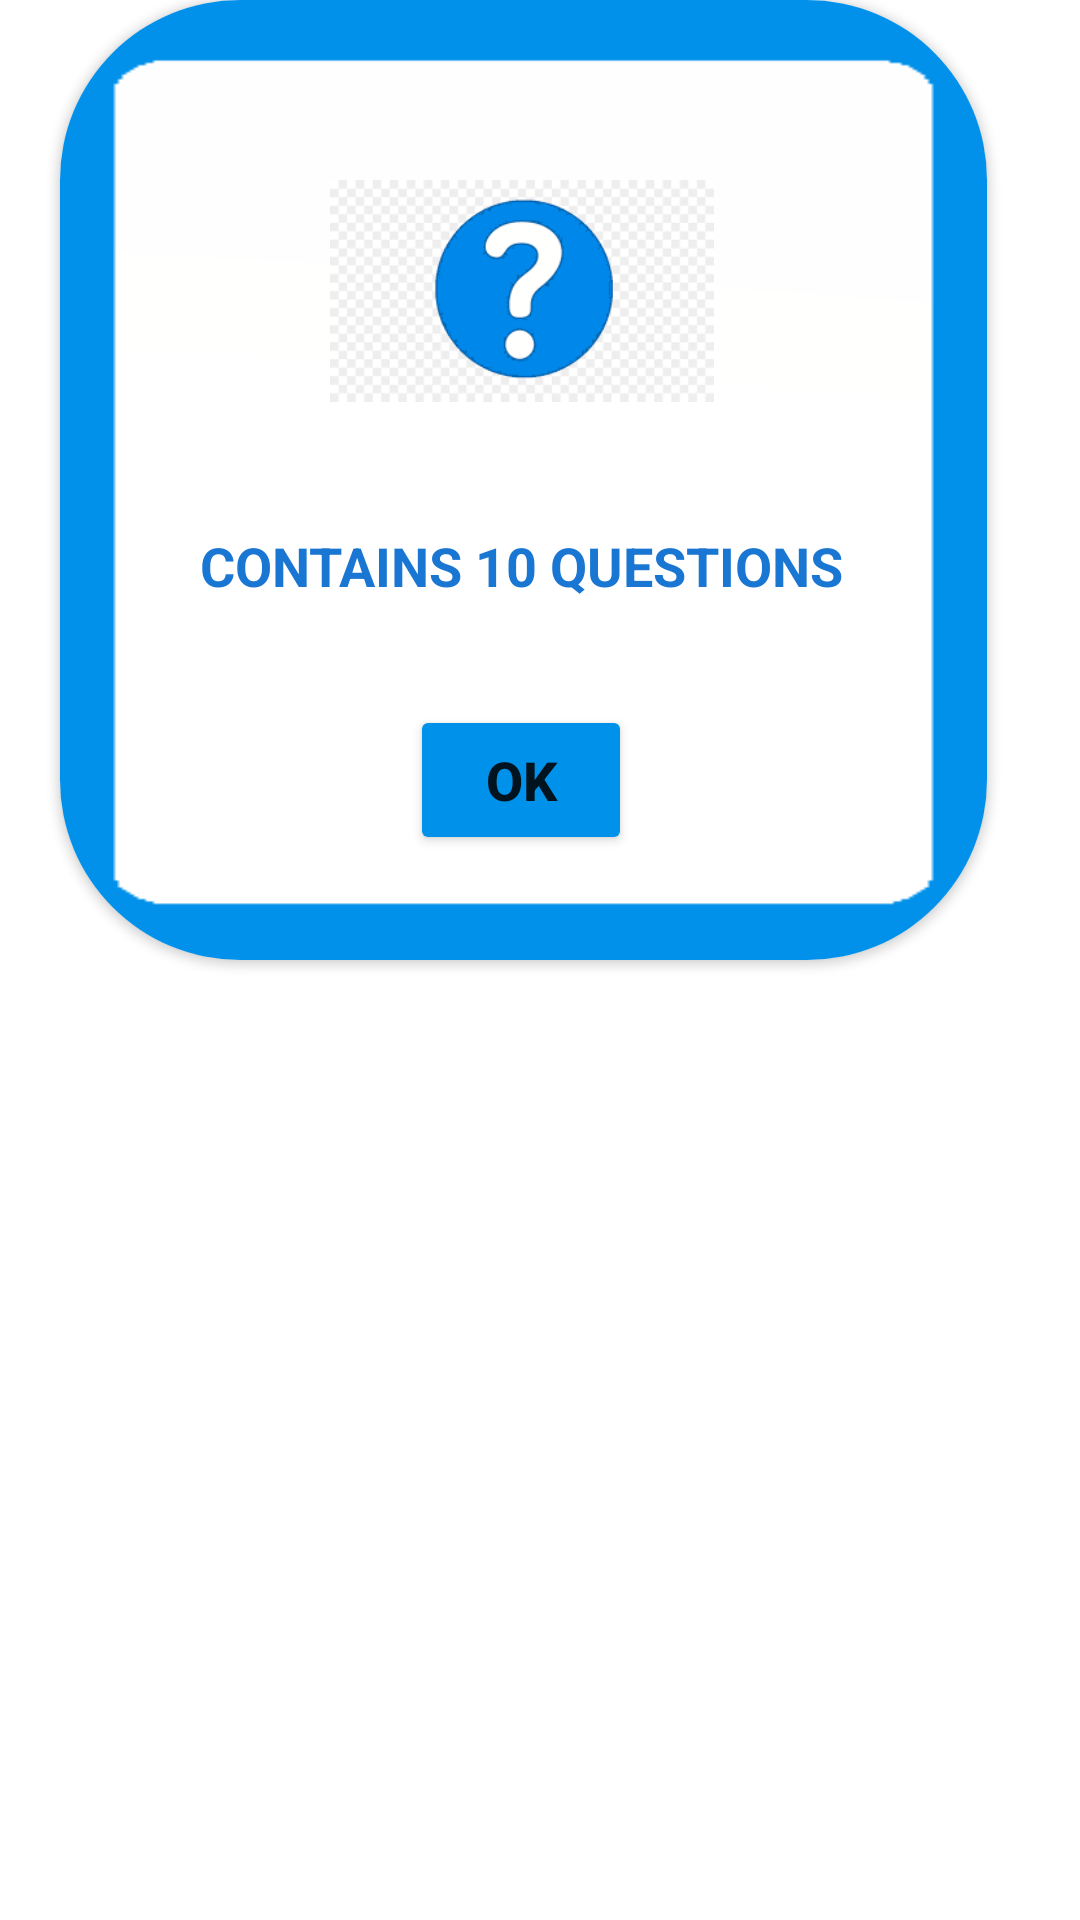

Locate icon controls on the screen. Image size 1080*1920, boxes as (x1, y1, x2, y2).
myquestion: (435, 199, 613, 379)
